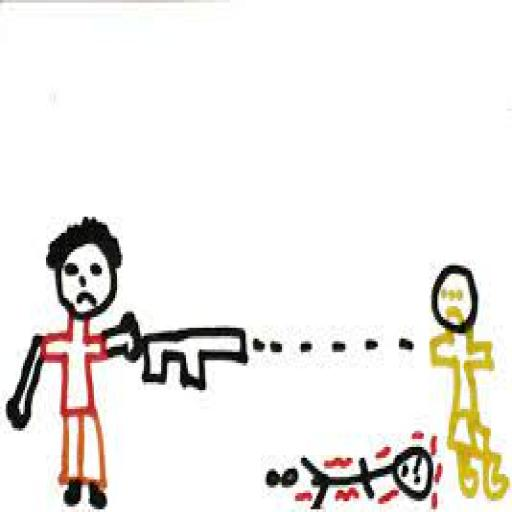person: (2, 206, 143, 509), (424, 249, 509, 498), (260, 426, 448, 509)
